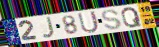2: (18, 19, 39, 42)
8: (61, 14, 80, 35)
J: (41, 16, 56, 39)
Q: (120, 6, 143, 29)
S: (101, 9, 123, 31)
U: (77, 10, 100, 34)
